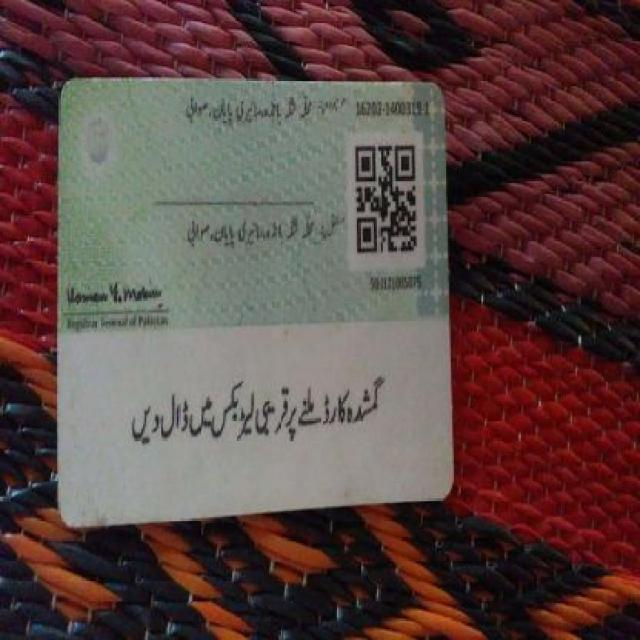Back: (57, 72, 457, 508)
